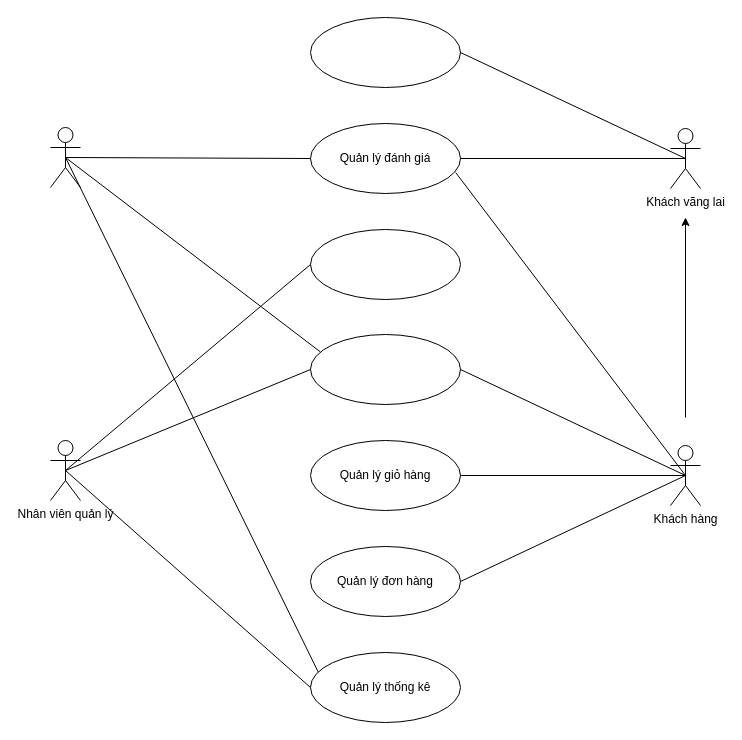
Image size: 742x740. Some labels were removed from this diagram. The shapes that lost their labels are listed below. From the top down, each one's centre as x and y in pixels, then its label:
pixel 385 52: Đăng ký
pixel 65 157: Quản trị viên
pixel 385 264: Quản lý sách
pixel 385 369: Quản lý tài khoản
